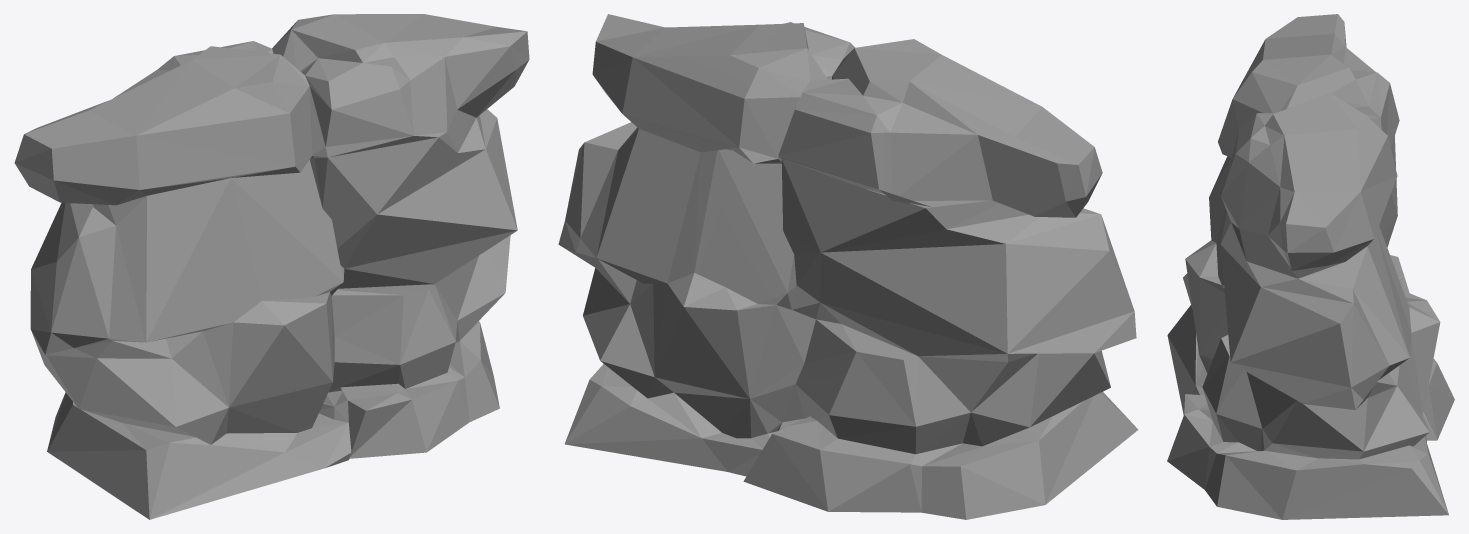
The model's file is rock__rockform_wall_short2_light.glb.
3 views of the same model, side by side, from view 1: azimuth 30°, elevation 25°; view 2: azimuth 150°, elevation 25°; view 3: azimuth 270°, elevation 25° (orthographic). The views are drawn at different scales.
Visible parts, largest first — view 1: rockform.wall.short2.light; view 2: rockform.wall.short2.light; view 3: rockform.wall.short2.light.
Part boxes in pixels (x1,y1,x2,y2): rockform.wall.short2.light: [14, 14, 529, 519]; rockform.wall.short2.light: [558, 14, 1138, 519]; rockform.wall.short2.light: [1167, 14, 1454, 519].
Size of the model in its own units: 21.76 by 15.35 by 11.56.
1 material, 1 textured.
